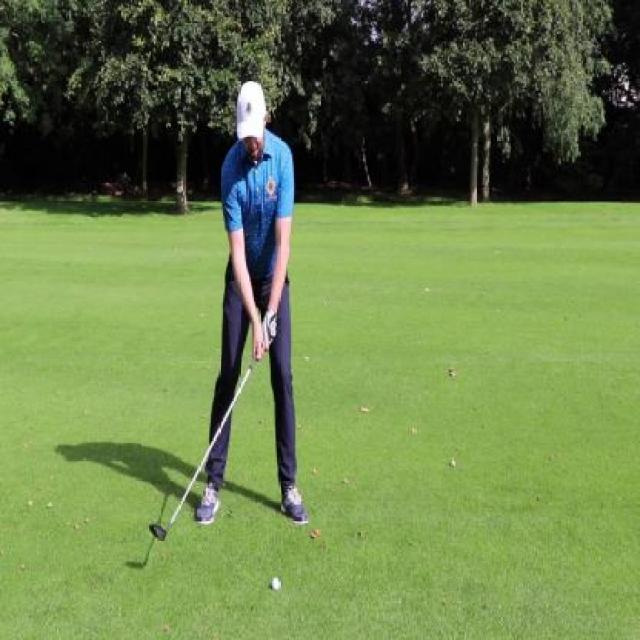club head: (148, 522, 170, 543)
